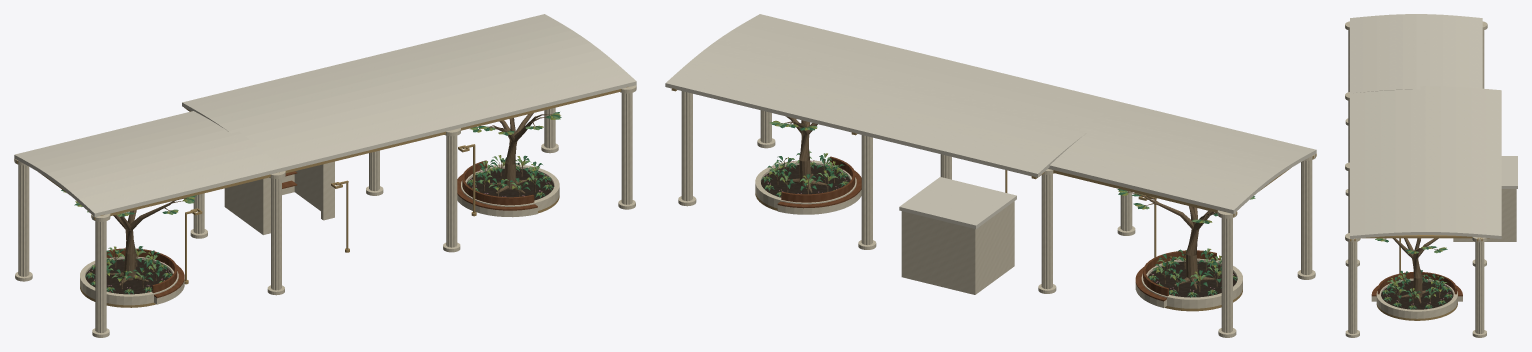
File: G7_Completion_R007_G7C7_D06_ForeGardenCourt.glb
3 renders of one model, left to right at view 1: azimuth 30°, elevation 25°; view 2: azimuth 150°, elevation 25°; view 3: azimuth 270°, elevation 25°, orthographic. The views are drawn at different scales.
Visible parts, largest first — view 1: G7C7_D06_ForeGardenCourt_G7C7_roof_solid_roof, G7C7_D06_ForeGardenCourt_G7C7_stone_solid_frame, G7C7_D06_ForeGardenCourt_G7C7_soil_solid_planter, G7C7_D06_ForeGardenCourt_G7C7_wood_solid_furniture, G7C7_D06_ForeGardenCourt_G7C7_bark_solid_tree_bark, G7C7_D06_ForeGardenCourt_G7C7_stone_solid_planter, G7C7_D06_ForeGardenCourt_G7C7_metal_solid_frame, G7C7_D06_ForeGardenCourt_ASTRAEA_botanical_leaf_jade.001_vis, G7C7_D06_ForeGardenCourt_G7C7_metal_solid_fixture, G7C7_D06_ForeGardenCourt_G7C7_stone_solid_furniture, G7C7_D06_ForeGardenCourt_ASTRAEA_botanical_leaf_sage.001_vis; view 2: G7C7_D06_ForeGardenCourt_G7C7_roof_solid_roof, G7C7_D06_ForeGardenCourt_G7C7_stone_solid_frame, G7C7_D06_ForeGardenCourt_G7C7_soil_solid_planter, G7C7_D06_ForeGardenCourt_G7C7_wood_solid_furniture, G7C7_D06_ForeGardenCourt_G7C7_bark_solid_tree_bark, G7C7_D06_ForeGardenCourt_G7C7_stone_solid_planter, G7C7_D06_ForeGardenCourt_ASTRAEA_botanical_leaf_jade.001_vis, G7C7_D06_ForeGardenCourt_G7C7_stone_solid_furniture, G7C7_D06_ForeGardenCourt_G7C7_metal_solid_frame, G7C7_D06_ForeGardenCourt_ASTRAEA_botanical_leaf_sage.001_vis; view 3: G7C7_D06_ForeGardenCourt_G7C7_roof_solid_roof, G7C7_D06_ForeGardenCourt_G7C7_stone_solid_frame, G7C7_D06_ForeGardenCourt_G7C7_soil_solid_planter, G7C7_D06_ForeGardenCourt_G7C7_stone_solid_planter, G7C7_D06_ForeGardenCourt_G7C7_bark_solid_tree_bark, G7C7_D06_ForeGardenCourt_G7C7_wood_solid_furniture, G7C7_D06_ForeGardenCourt_G7C7_metal_solid_frame, G7C7_D06_ForeGardenCourt_ASTRAEA_botanical_leaf_jade.001_vis, G7C7_D06_ForeGardenCourt_G7C7_metal_solid_planter, G7C7_D06_ForeGardenCourt_ASTRAEA_botanical_leaf_jade.002_vis, G7C7_D06_ForeGardenCourt_ASTRAEA_botanical_leaf_sage.001_vis, G7C7_D06_ForeGardenCourt_ASTRAEA_botanical_leaf_olive.001_vi (+2 smaller).
Boxes of the visible parts, <box> form: G7C7_D06_ForeGardenCourt_G7C7_roof_solid_roof: <box>14,14,636,217</box>; G7C7_D06_ForeGardenCourt_G7C7_stone_solid_frame: <box>14,85,636,337</box>; G7C7_D06_ForeGardenCourt_G7C7_soil_solid_planter: <box>85,168,554,294</box>; G7C7_D06_ForeGardenCourt_G7C7_wood_solid_furniture: <box>106,160,537,298</box>; G7C7_D06_ForeGardenCourt_G7C7_bark_solid_tree_bark: <box>110,113,551,285</box>; G7C7_D06_ForeGardenCourt_G7C7_stone_solid_planter: <box>80,164,559,305</box>; G7C7_D06_ForeGardenCourt_G7C7_metal_solid_frame: <box>14,87,627,219</box>; G7C7_D06_ForeGardenCourt_ASTRAEA_botanical_leaf_jade.001_vis: <box>106,155,544,281</box>; G7C7_D06_ForeGardenCourt_G7C7_metal_solid_fixture: <box>184,144,476,284</box>; G7C7_D06_ForeGardenCourt_G7C7_stone_solid_furniture: <box>154,194,537,304</box>; G7C7_D06_ForeGardenCourt_ASTRAEA_botanical_leaf_sage.001_vis: <box>106,156,539,278</box>; G7C7_D06_ForeGardenCourt_G7C7_roof_solid_roof: <box>665,14,1316,228</box>; G7C7_D06_ForeGardenCourt_G7C7_stone_solid_frame: <box>678,91,1315,337</box>; G7C7_D06_ForeGardenCourt_G7C7_soil_solid_planter: <box>761,165,1237,297</box>; G7C7_D06_ForeGardenCourt_G7C7_wood_solid_furniture: <box>777,156,1220,301</box>; G7C7_D06_ForeGardenCourt_G7C7_bark_solid_tree_bark: <box>781,116,1217,289</box>; G7C7_D06_ForeGardenCourt_G7C7_stone_solid_planter: <box>755,160,1242,308</box>; G7C7_D06_ForeGardenCourt_ASTRAEA_botanical_leaf_jade.001_vis: <box>767,153,1221,286</box>; G7C7_D06_ForeGardenCourt_G7C7_stone_solid_furniture: <box>777,190,1220,307</box>; G7C7_D06_ForeGardenCourt_G7C7_metal_solid_frame: <box>671,88,1316,216</box>; G7C7_D06_ForeGardenCourt_ASTRAEA_botanical_leaf_sage.001_vis: <box>769,151,1221,279</box>; G7C7_D06_ForeGardenCourt_G7C7_roof_solid_roof: <box>1350,14,1517,238</box>; G7C7_D06_ForeGardenCourt_G7C7_stone_solid_frame: <box>1345,21,1516,337</box>; G7C7_D06_ForeGardenCourt_G7C7_soil_solid_planter: <box>1381,281,1453,309</box>; G7C7_D06_ForeGardenCourt_G7C7_stone_solid_planter: <box>1376,278,1457,318</box>; G7C7_D06_ForeGardenCourt_G7C7_bark_solid_tree_bark: <box>1383,238,1438,303</box>; G7C7_D06_ForeGardenCourt_G7C7_wood_solid_furniture: <box>1371,272,1462,296</box>; G7C7_D06_ForeGardenCourt_G7C7_metal_solid_frame: <box>1350,235,1489,241</box>; G7C7_D06_ForeGardenCourt_ASTRAEA_botanical_leaf_jade.001_vis: <box>1387,270,1447,301</box>; G7C7_D06_ForeGardenCourt_G7C7_metal_solid_planter: <box>1376,303,1457,320</box>; G7C7_D06_ForeGardenCourt_ASTRAEA_botanical_leaf_jade.002_vis: <box>1382,279,1452,309</box>; G7C7_D06_ForeGardenCourt_ASTRAEA_botanical_leaf_sage.001_vis: <box>1387,274,1446,298</box>; G7C7_D06_ForeGardenCourt_ASTRAEA_botanical_leaf_olive.001_vi: <box>1390,272,1444,298</box>.
Bounding box in the file's own units: 27.22 × 6.18 × 9.12.
19 materials, 18 textured.
